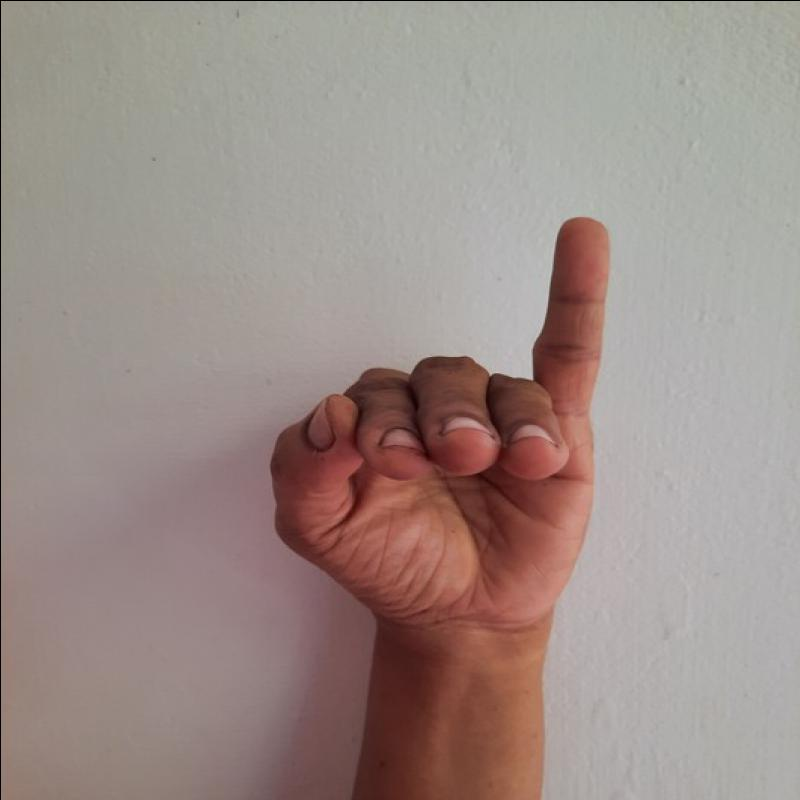Kartharee Mukham: (260, 204, 625, 637)
